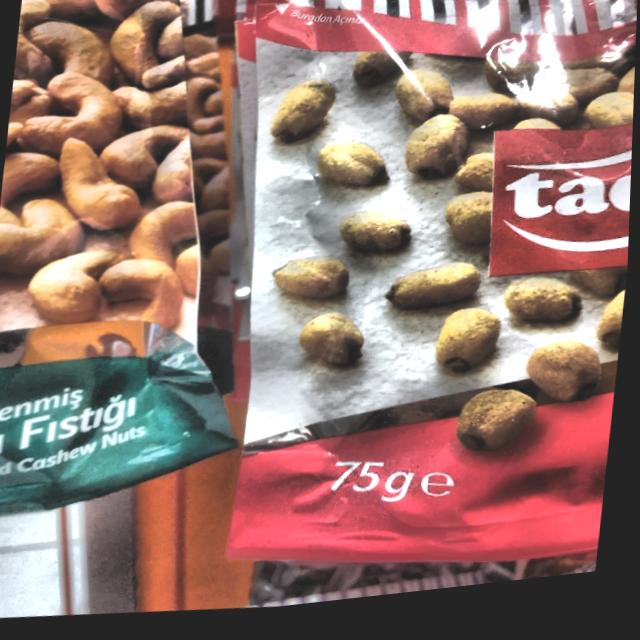Plastic: (201, 0, 638, 580), (0, 0, 247, 529)
